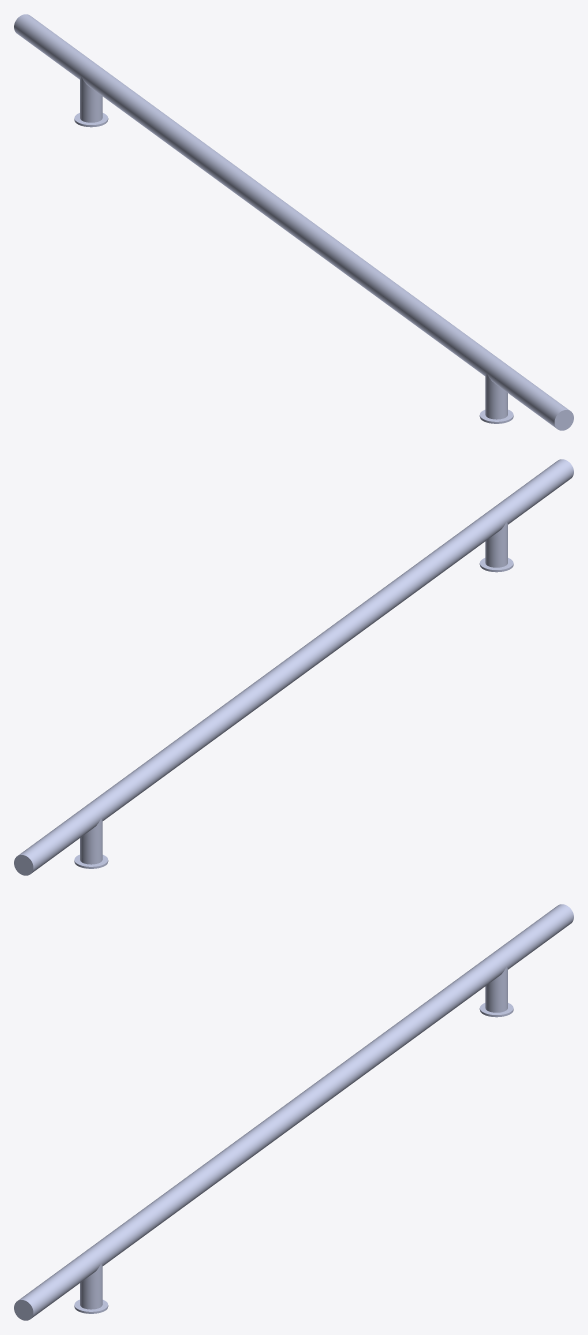
File: Tall,Locker,Pantry,Overhead60&80Handle.fbx
The picture shows the model from 3 angles, top to bottom: view 1: azimuth 30°, elevation 25°; view 2: azimuth 150°, elevation 25°; view 3: azimuth 330°, elevation 25°; orthographic projection.
Visible parts, largest first — view 1: Body_1; view 2: Body_1; view 3: Body_1.
Part boxes in pixels (x1,y1,x2,y2): Body_1: (14, 14, 573, 430); Body_1: (14, 459, 573, 875); Body_1: (14, 904, 573, 1320).
Bounding box in the file's own units: 0.0381 × 1.22 × 0.0698.
